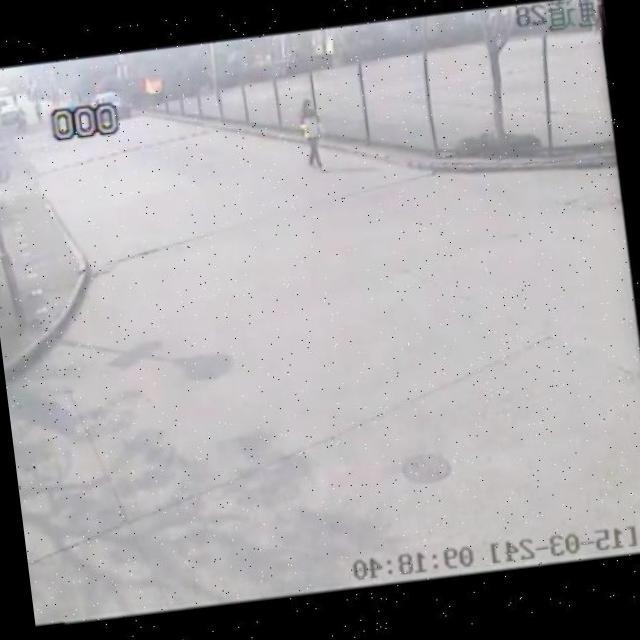person: (285, 81, 339, 180)
